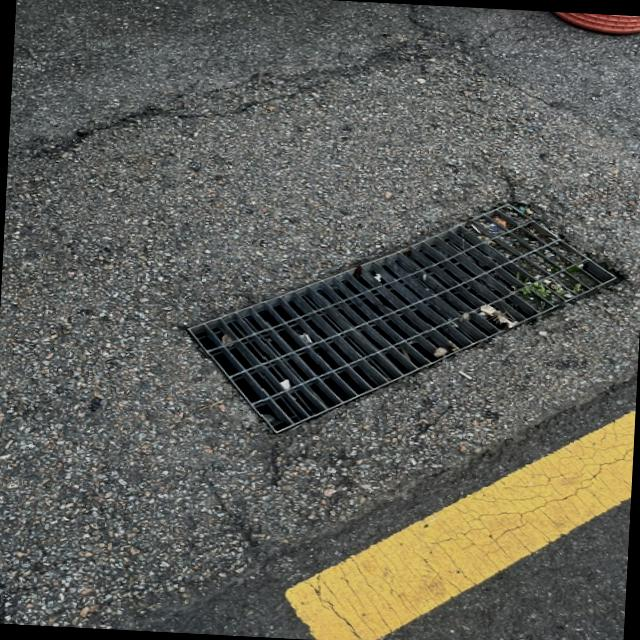drain_area: (193, 228, 541, 433)
drain_full: (189, 205, 617, 434)
